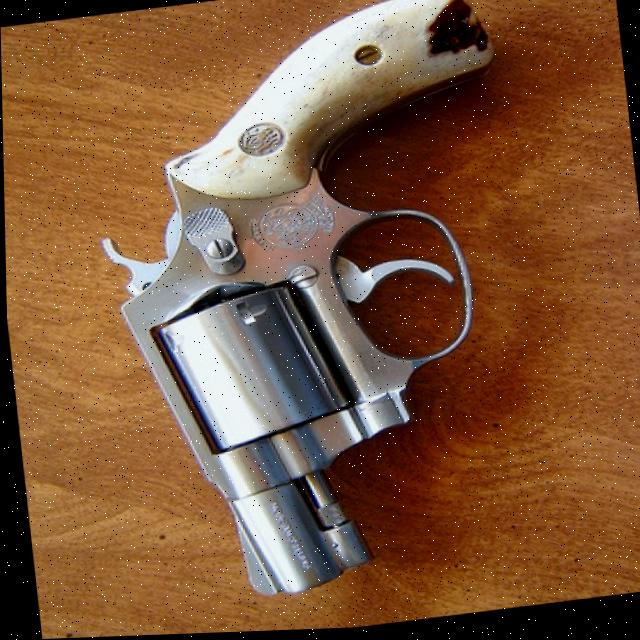pistol: (73, 0, 554, 617)
